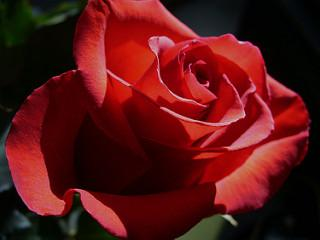Rose: (8, 5, 311, 238)
